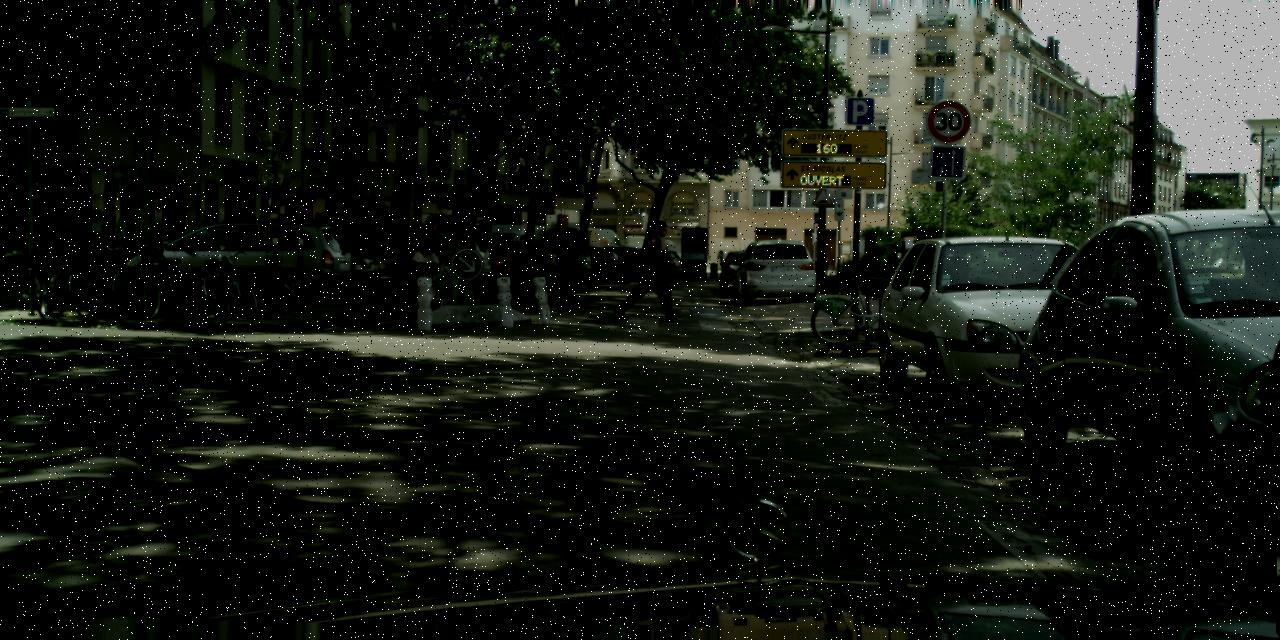ped: (632, 221, 672, 322), (414, 216, 448, 296)
